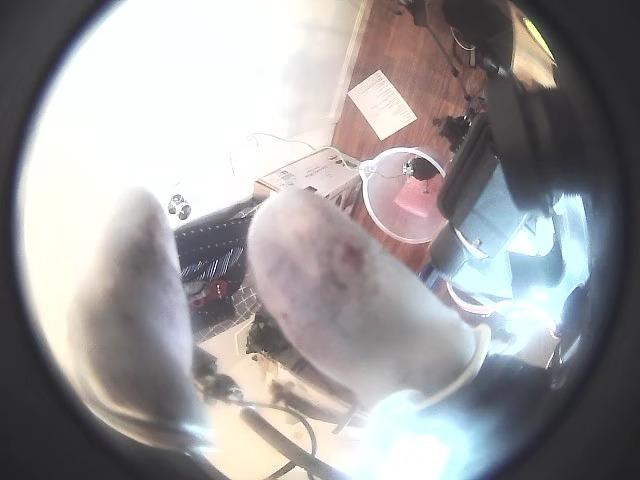gripper: (247, 189, 483, 410), (69, 188, 199, 422)
lense: (0, 0, 208, 479), (493, 0, 639, 479)
